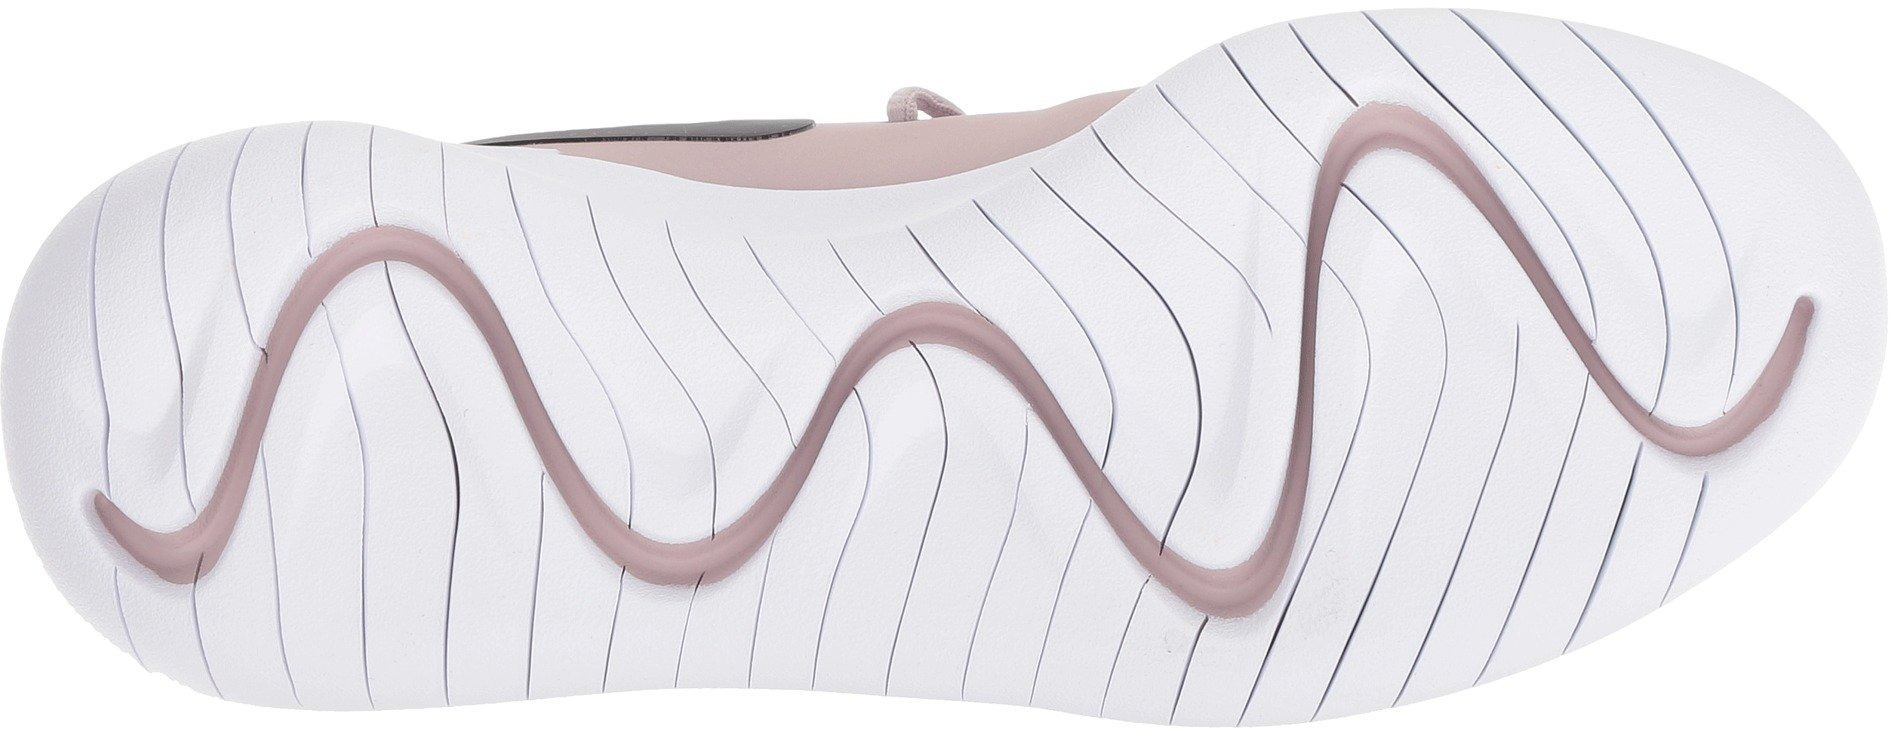chevron: (1216, 41, 1586, 379), (718, 231, 1075, 543)
line: (1216, 41, 1586, 379), (718, 231, 1075, 543), (1330, 395, 1602, 661), (811, 447, 1075, 685), (292, 457, 528, 689), (72, 179, 268, 377)
